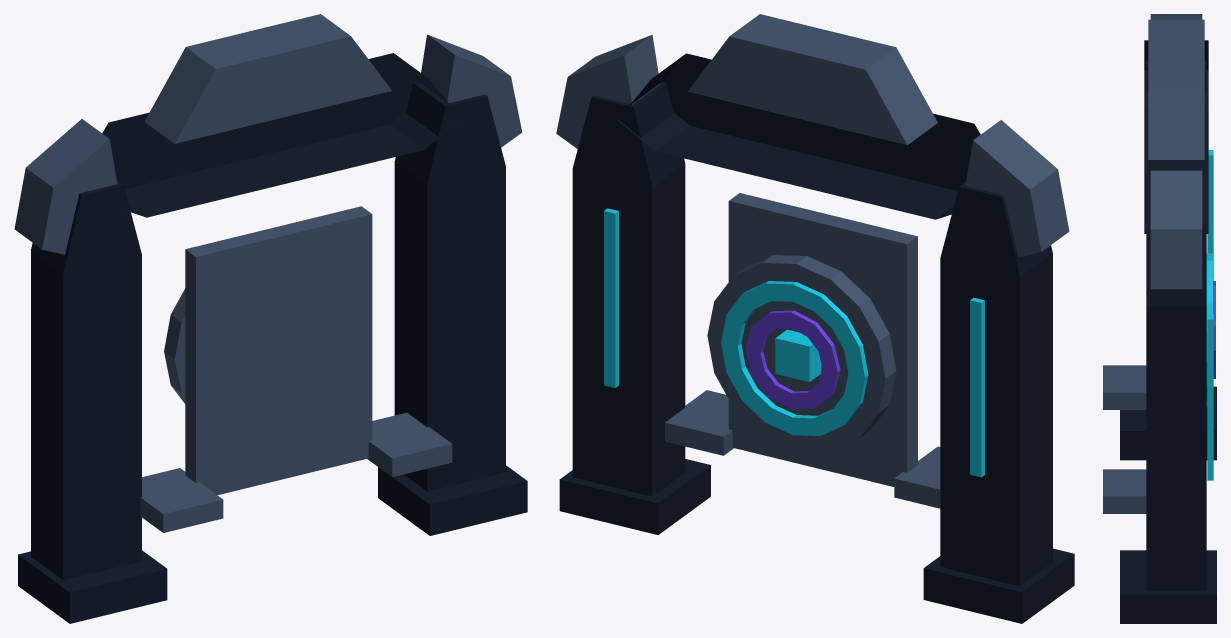
The model's file is chaos_perimeter_gate.obj.
The picture shows the model from 3 angles, left to right: view 1: azimuth 30°, elevation 25°; view 2: azimuth 150°, elevation 25°; view 3: azimuth 270°, elevation 25°; orthographic projection. The views are drawn at different scales.
Visible parts, largest first — view 1: CentralReactorBackplate, WestStructure, EastStructure, ChamferedCrossBeam, RelayCrown, WestHighFin, BaseHeel-1, BaseHeel1, EastHighFin, Outrigger1, Outrigger-1, OuterReactorBezel; view 2: EastStructure, WestStructure, CentralReactorBackplate, ChamferedCrossBeam, RelayCrown, OuterReactorBezel, InnerReactorLight, WestHighFin, BaseHeel1, BaseHeel-1, EastHighFin, PulseFocus (+5 smaller); view 3: EastStructure, RelayCrown, EastHighFin, BaseHeel1, ChamferedCrossBeam, Outrigger-1, Outrigger1, BaseHeel-1, EastLightSlot, WestLightSlot, InnerReactorLight, WestHighFin (+2 smaller).
Part boxes in pixels (bbox=[...]): CentralReactorBackplate: bbox=[185, 206, 372, 495]; WestStructure: bbox=[31, 180, 141, 580]; EastStructure: bbox=[394, 81, 505, 491]; ChamferedCrossBeam: bbox=[102, 53, 461, 217]; RelayCrown: bbox=[144, 14, 391, 143]; WestHighFin: bbox=[14, 119, 117, 254]; BaseHeel-1: bbox=[18, 550, 167, 623]; BaseHeel1: bbox=[378, 465, 527, 535]; EastHighFin: bbox=[419, 34, 522, 147]; Outrigger1: bbox=[367, 412, 452, 477]; Outrigger-1: bbox=[140, 468, 223, 532]; OuterReactorBezel: bbox=[164, 288, 185, 403]; EastStructure: bbox=[572, 82, 685, 496]; WestStructure: bbox=[940, 182, 1052, 586]; CentralReactorBackplate: bbox=[728, 193, 917, 486]; ChamferedCrossBeam: bbox=[617, 53, 980, 219]; RelayCrown: bbox=[688, 14, 937, 145]; OuterReactorBezel: bbox=[707, 255, 896, 451]; InnerReactorLight: bbox=[721, 281, 868, 435]; WestHighFin: bbox=[965, 120, 1069, 257]; BaseHeel1: bbox=[559, 459, 710, 534]; BaseHeel-1: bbox=[923, 548, 1074, 623]; EastHighFin: bbox=[556, 34, 660, 148]; PulseFocus: bbox=[745, 310, 840, 409]; EastStructure: bbox=[1146, 209, 1206, 591]; RelayCrown: bbox=[1148, 19, 1204, 159]; EastHighFin: bbox=[1150, 170, 1202, 289]; BaseHeel1: bbox=[1120, 550, 1216, 623]; ChamferedCrossBeam: bbox=[1144, 40, 1208, 233]; Outrigger-1: bbox=[1103, 365, 1146, 409]; Outrigger1: bbox=[1103, 469, 1146, 513]; BaseHeel-1: bbox=[1120, 386, 1216, 460]; EastLightSlot: bbox=[1207, 314, 1213, 480]; WestLightSlot: bbox=[1207, 150, 1213, 280]; InnerReactorLight: bbox=[1206, 253, 1212, 406]; WestHighFin: bbox=[1150, 14, 1202, 19].
Size of the model in its own units: 12.8 by 12.85 by 2.82.
